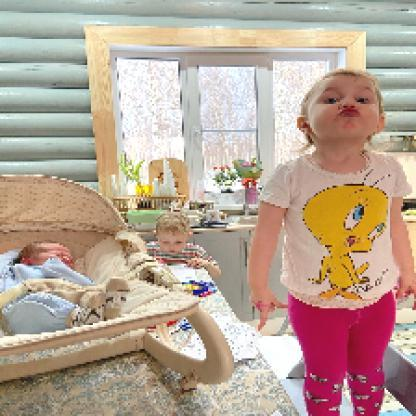child: (248, 68, 415, 416), (1, 240, 131, 334), (147, 214, 223, 281)
